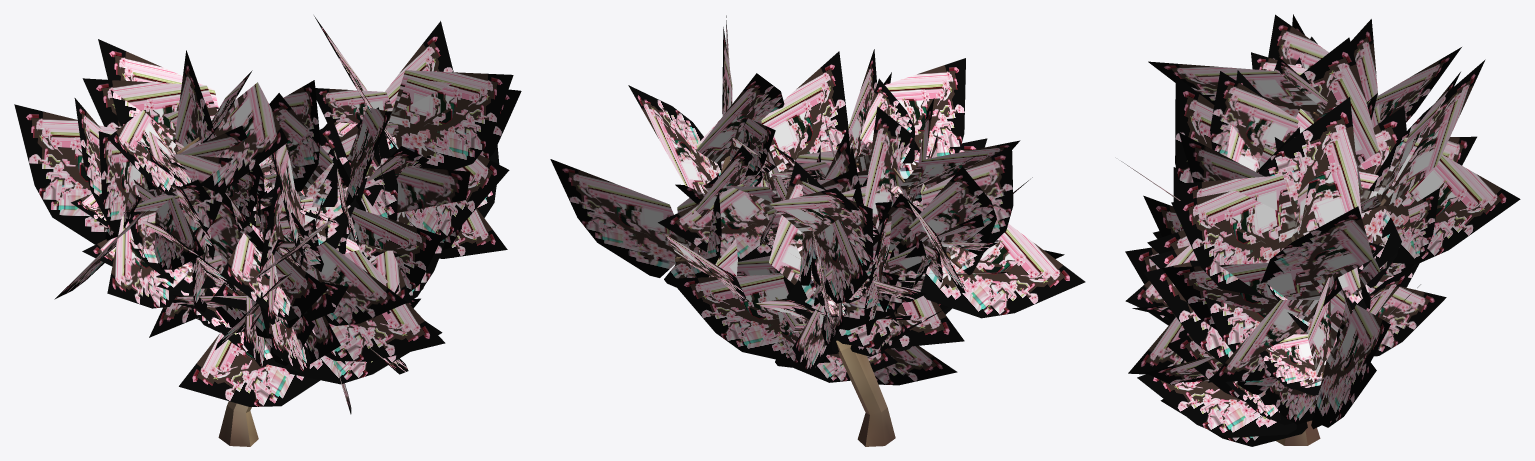
Rendered from sakuratree.fbx.
The picture shows the model from 3 angles, left to right: view 1: azimuth 30°, elevation 25°; view 2: azimuth 150°, elevation 25°; view 3: azimuth 270°, elevation 25°; orthographic projection. The views are drawn at different scales.
Parts seen in each view (by area): view 1: sakuraflower.098, Tree; view 2: sakuraflower.098, Tree; view 3: sakuraflower.098, Tree.
Boxes of the visible parts, x1,y1,x2,y2 form: sakuraflower.098: (14, 16, 521, 414); Tree: (177, 124, 391, 446); sakuraflower.098: (550, 15, 1085, 385); Tree: (675, 156, 961, 446); sakuraflower.098: (1121, 14, 1520, 446); Tree: (1276, 112, 1386, 445).
Size of the model in its own units: 3465 by 2516 by 2361.
Materials: 2 (2 with a texture image).
